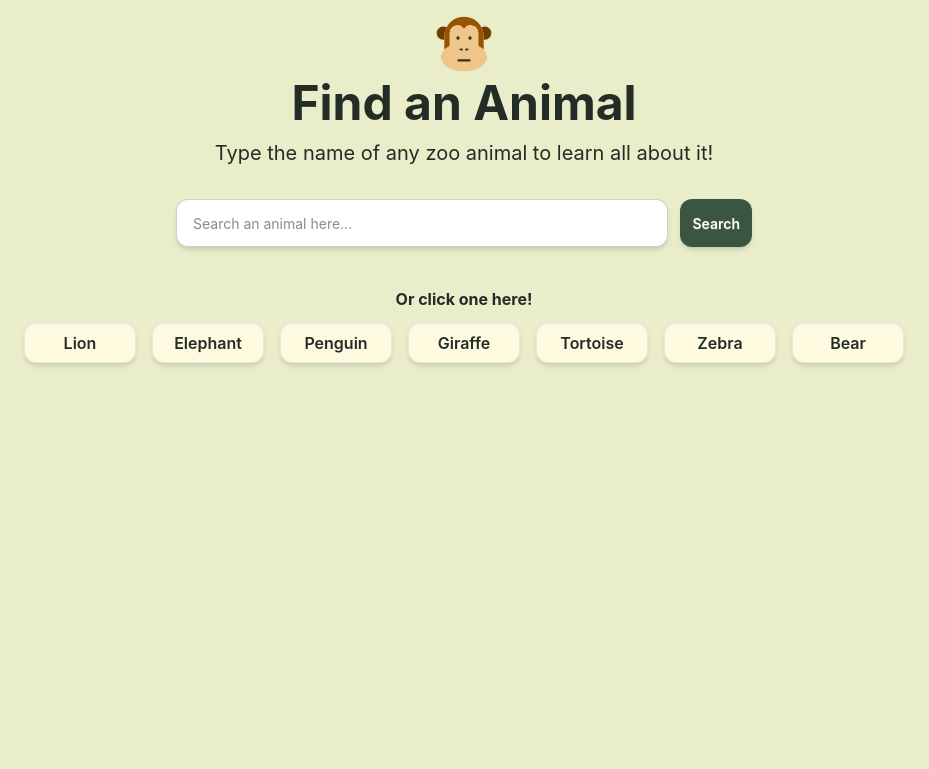
Test: search › quick search button fetches an animal
Click the button "Lion" at (80,343), box [24,323,136,363]
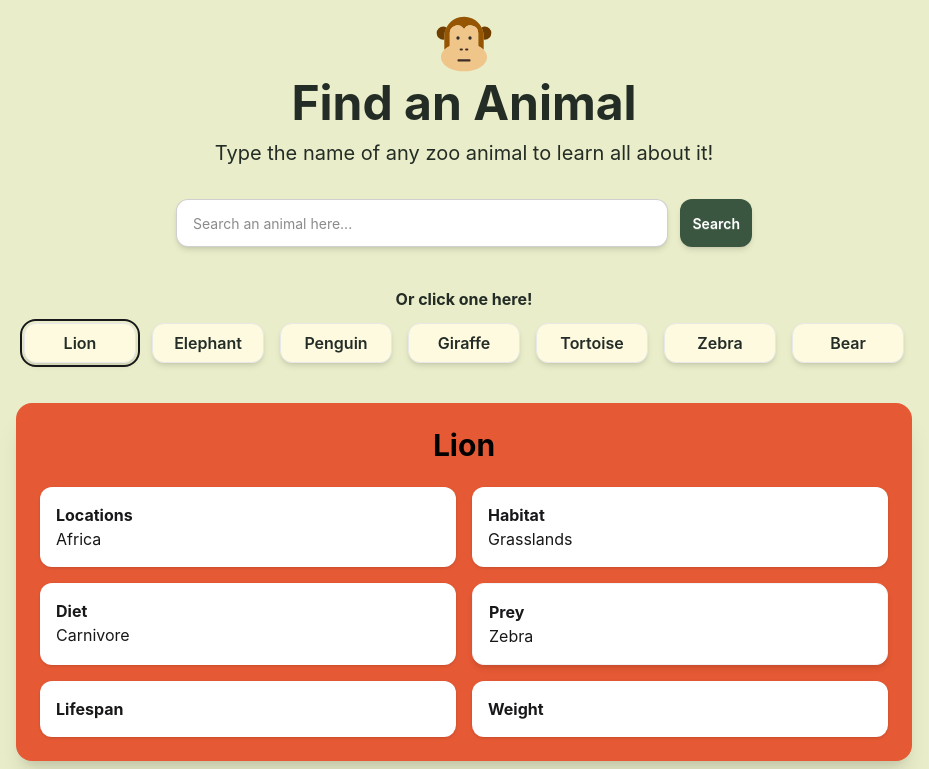
Expected: the heading "Lion" is shown, [433,427,495,463]
